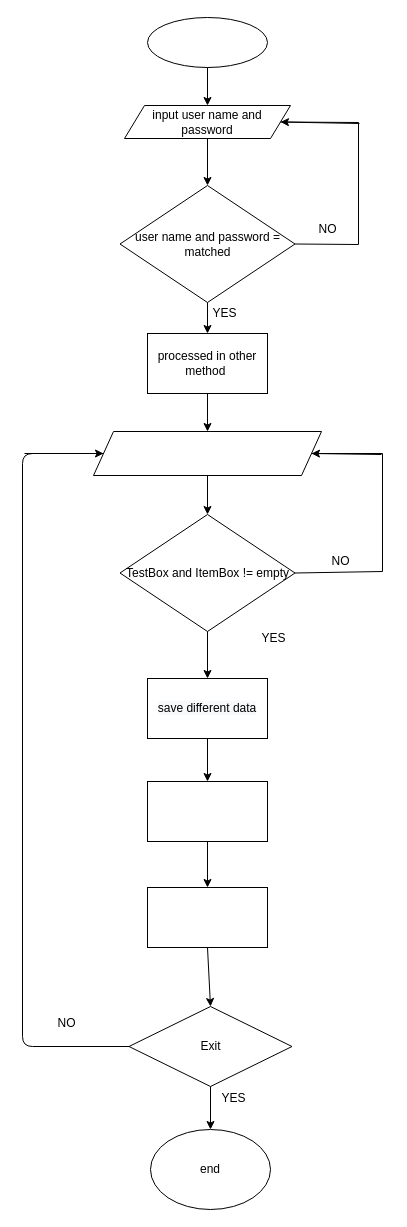
The diagram is 407 pixels wide and 1227 high, and some of its shapes have lost their labels. The shapes that lost their labels are listed below. From the top down, each one's box as (x1, y1, x2, y2) in pixels, then its label:
(146, 16, 268, 68): Start
(92, 430, 322, 476): input data in respective TestBox and ItemBox
(146, 780, 268, 842): Show Data
(146, 886, 268, 948): Load Data From CSV
